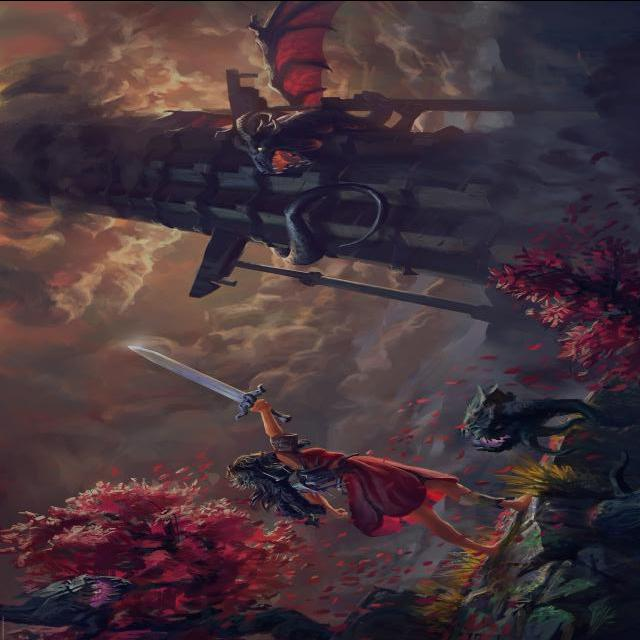sword: (116, 341, 296, 425)
